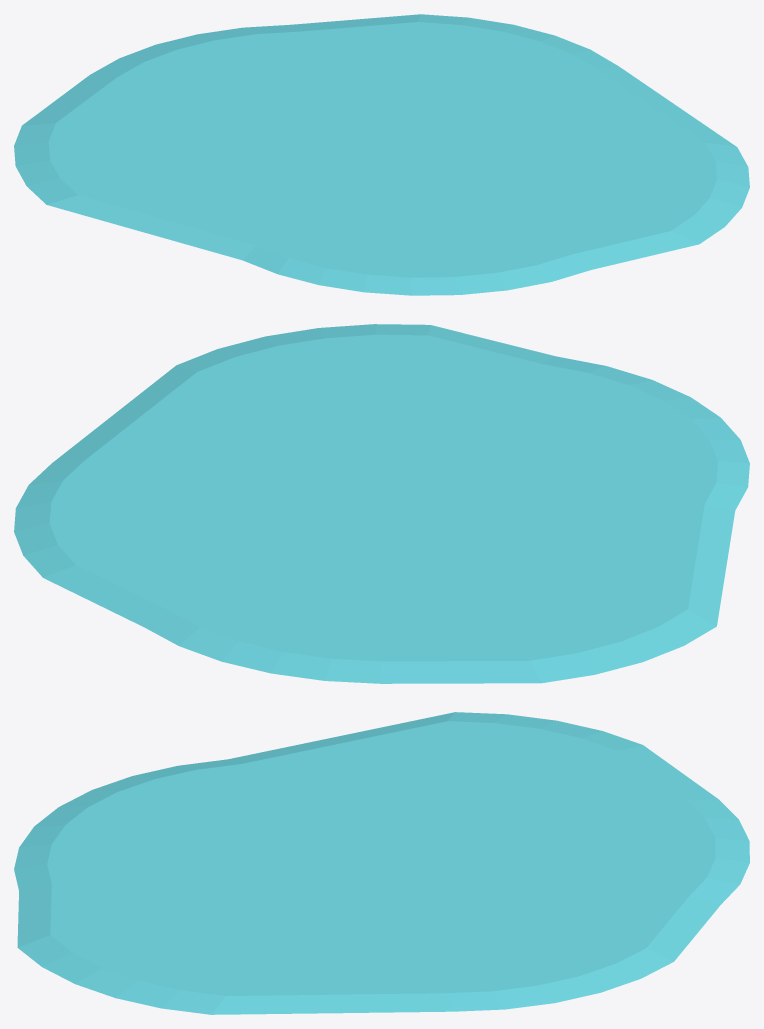
The model's file is puddle.fbx.
3 renders of one model, top to bottom at view 1: azimuth 30°, elevation 25°; view 2: azimuth 150°, elevation 25°; view 3: azimuth 270°, elevation 25°, orthographic. The views are drawn at different scales.
Visible parts, largest first — view 1: Plane; view 2: Plane; view 3: Plane.
Boxes of the visible parts, <box> form: Plane: <box>14,14,749,295</box>; Plane: <box>14,324,749,683</box>; Plane: <box>14,712,749,1014</box>.
Bounding box in the file's own units: 94.51 × 0.8406 × 97.1.
